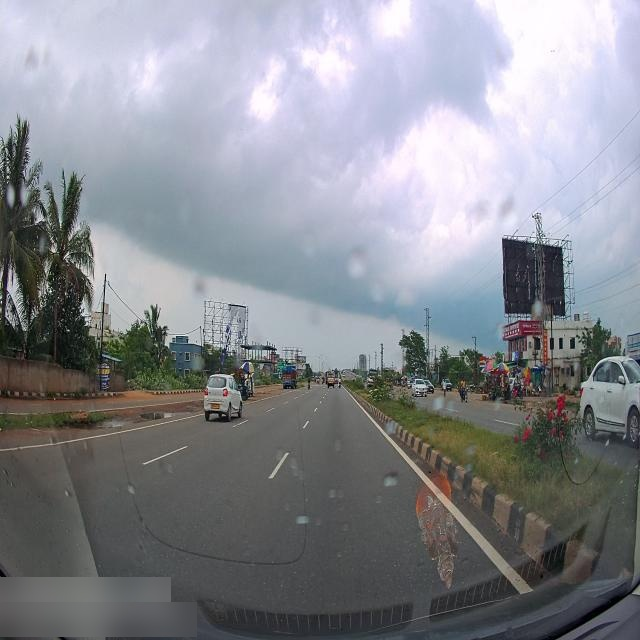pothole: (69, 417, 128, 434), (137, 409, 192, 424)
